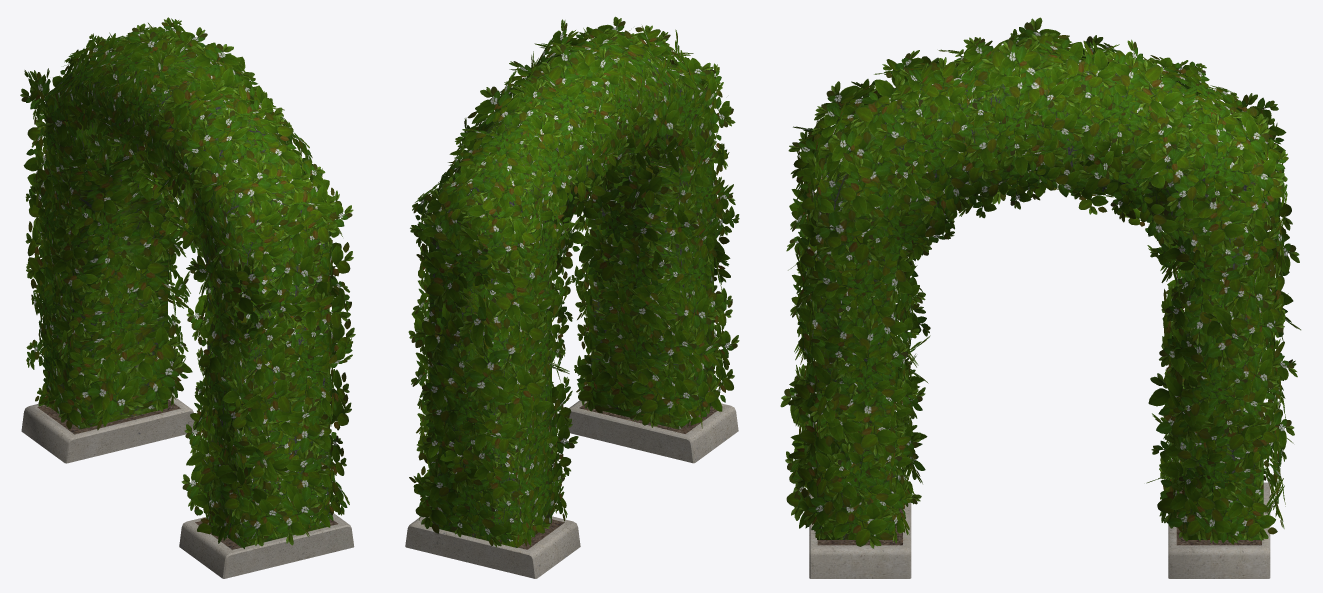
The model's file is hedge_03_arch.FBX.
3 renders of one model, left to right at view 1: azimuth 30°, elevation 25°; view 2: azimuth 150°, elevation 25°; view 3: azimuth 270°, elevation 25°, orthographic. The views are drawn at different scales.
Visible parts, largest first — view 1: hedge_03_arch; view 2: hedge_03_arch; view 3: hedge_03_arch.
Part boxes in pixels (x1,y1,x2,y2): hedge_03_arch: (20,17,355,578); hedge_03_arch: (405,16,739,578); hedge_03_arch: (780,17,1300,578).
Bounding box in the file's own units: 92.28 × 251 × 231.
